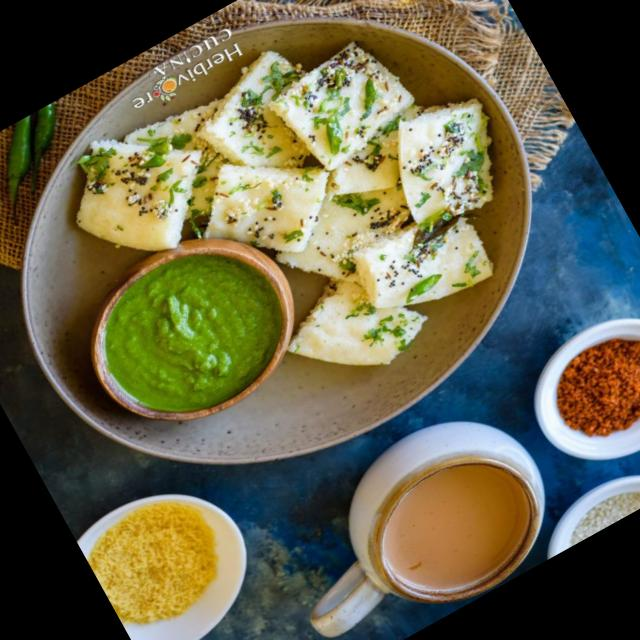dhokla: (198, 0, 551, 373), (20, 82, 244, 308)
